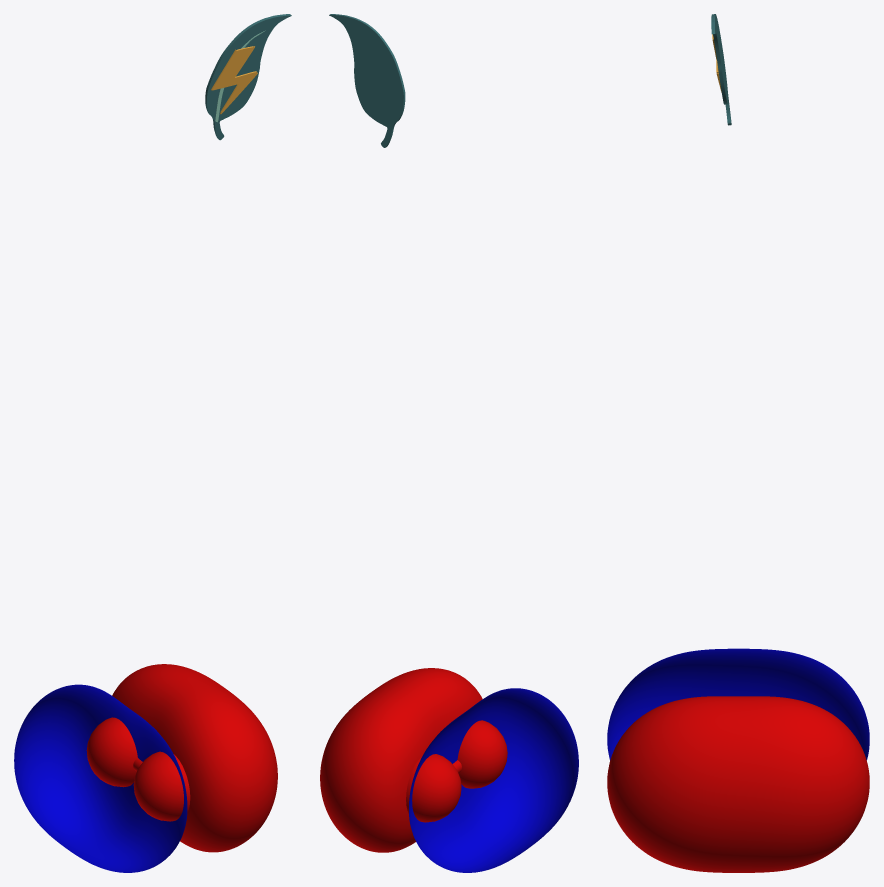
File: o2_dob_en.glb
3 renders of one model, left to right at view 1: azimuth 30°, elevation 25°; view 2: azimuth 150°, elevation 25°; view 3: azimuth 270°, elevation 25°, orthographic. The views are drawn at different scales.
Visible parts, largest first — view 1: o2_dob_en, path182, path186; view 2: o2_dob_en, path182; view 3: o2_dob_en, path182.
Boxes of the visible parts, x1,y1,x2,y2 form: o2_dob_en: (14, 664, 277, 872); path182: (205, 14, 291, 140); path186: (211, 46, 257, 114); o2_dob_en: (320, 668, 578, 872); path182: (329, 14, 405, 147); o2_dob_en: (607, 648, 869, 872); path182: (711, 14, 731, 125).
Size of the model in its own units: 1.75 by 5.67 by 1.53.
